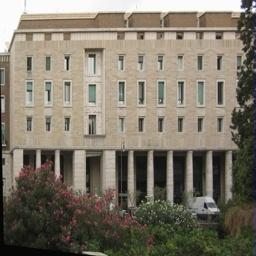building: (12, 5, 241, 218)
